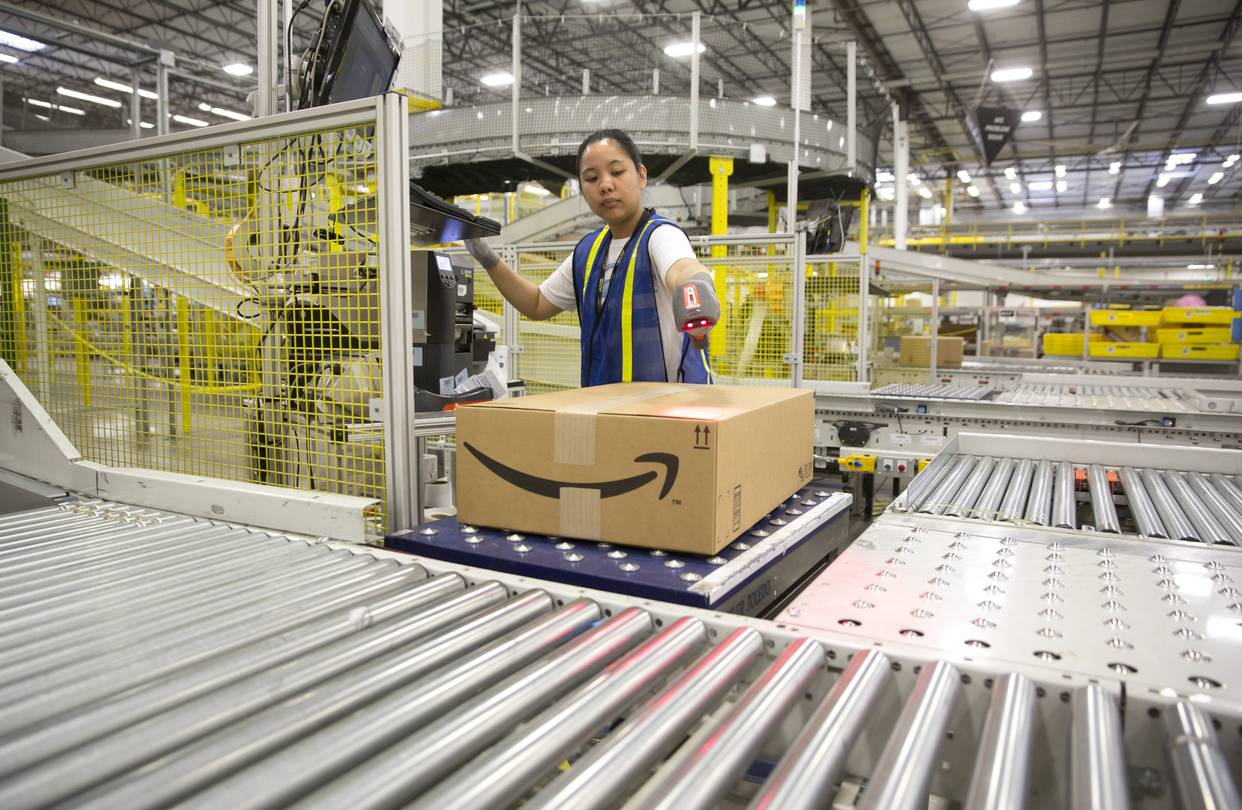noepi: (456, 115, 749, 397)
